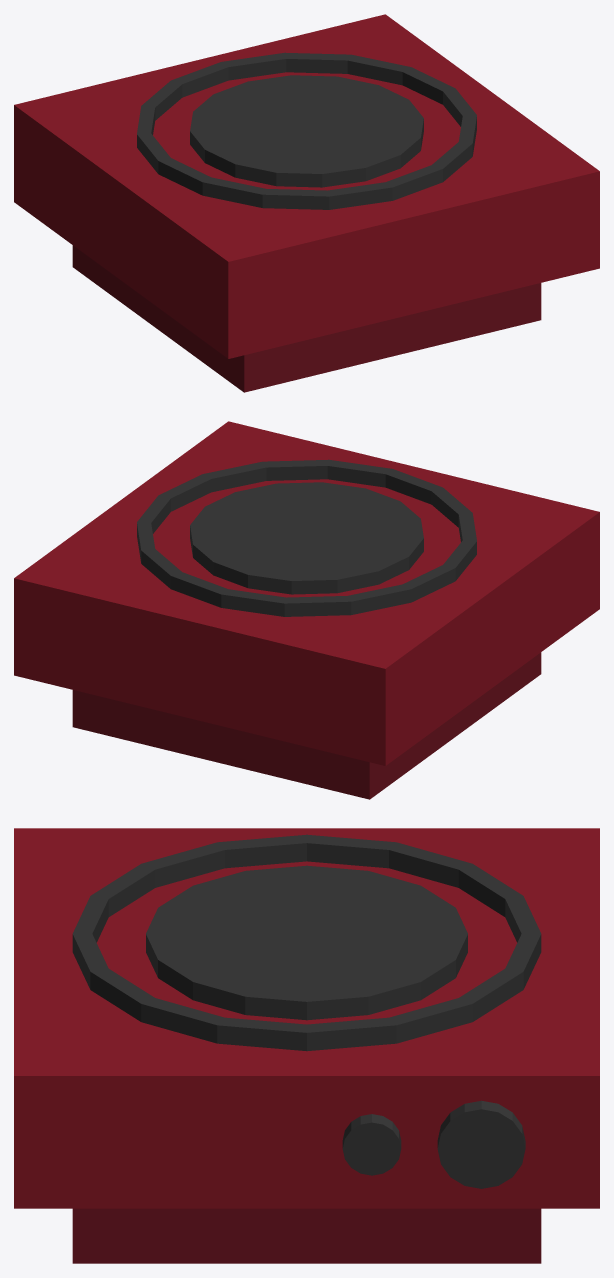
Rendered from stove.fbx.
3 renders of one model, top to bottom at view 1: azimuth 30°, elevation 25°; view 2: azimuth 150°, elevation 25°; view 3: azimuth 270°, elevation 25°, orthographic. The views are drawn at different scales.
Visible parts, largest first — view 1: Cube.004; view 2: Cube.004; view 3: Cube.004.
Part boxes in pixels (x1=…): Cube.004: x1=14, y1=14, x2=599, y2=392; Cube.004: x1=14, y1=421, x2=599, y2=799; Cube.004: x1=14, y1=828, x2=599, y2=1263.
Bounding box in the file's own units: 103 × 43.46 × 100.
